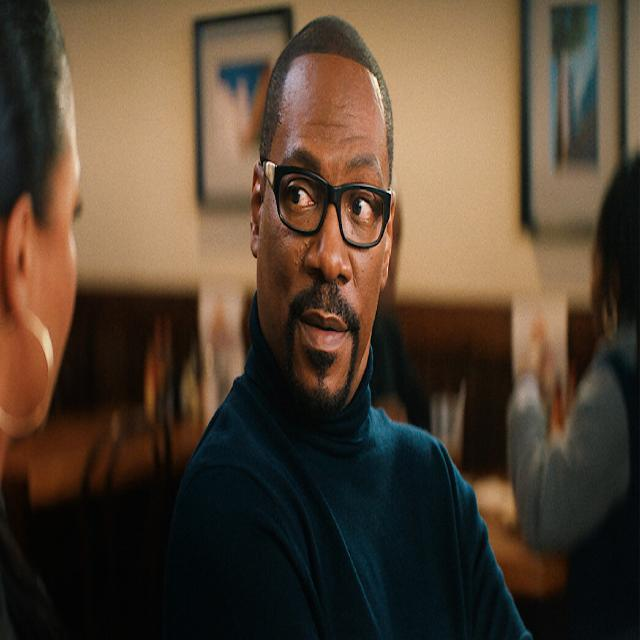adult: (170, 11, 540, 640), (0, 0, 86, 623)
